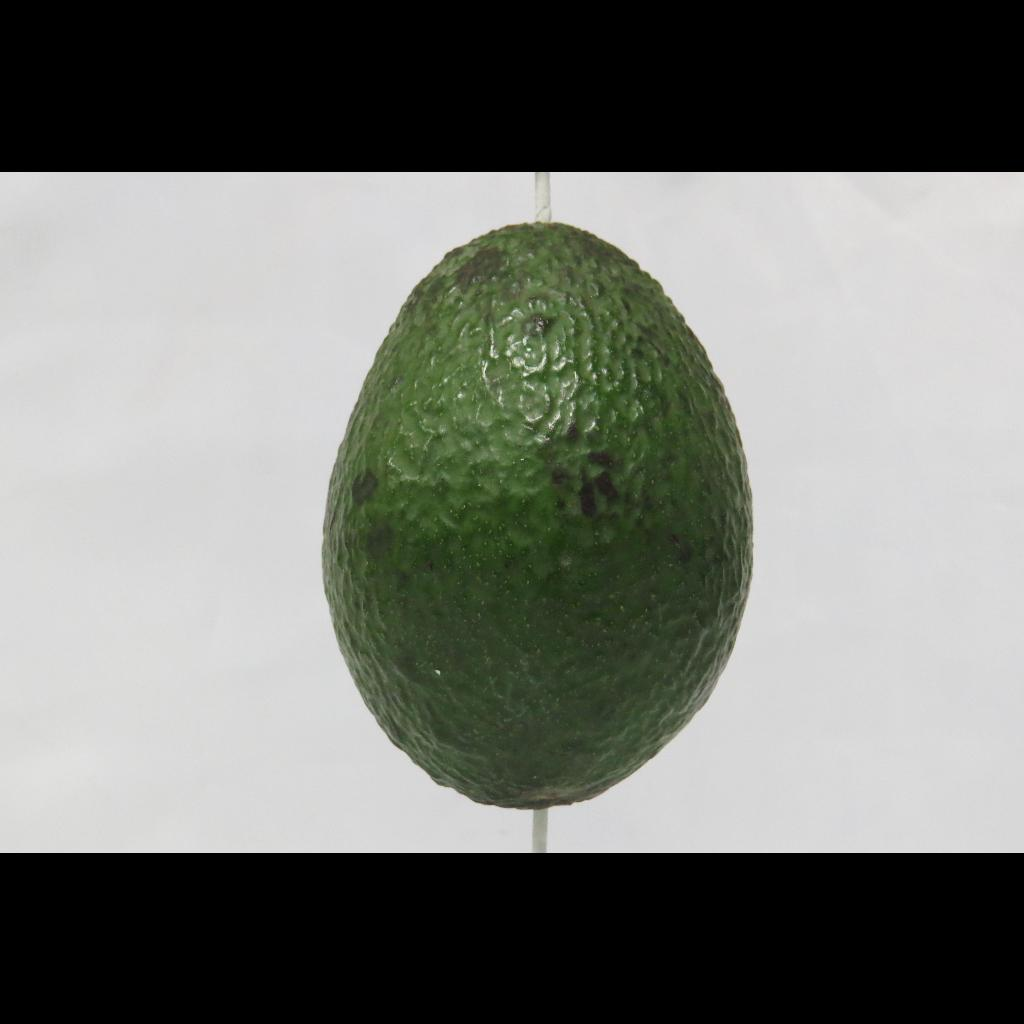Healthy: (302, 208, 794, 828)
